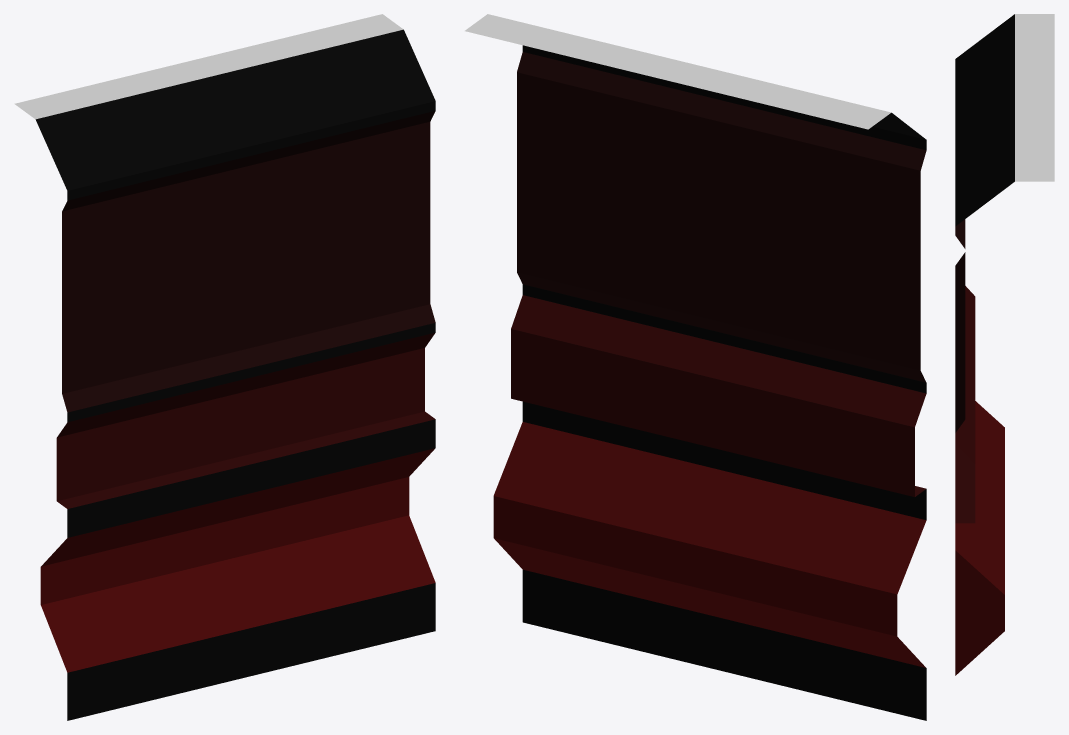
The model's file is Wall_2m.fbx.
3 renders of one model, left to right at view 1: azimuth 30°, elevation 25°; view 2: azimuth 150°, elevation 25°; view 3: azimuth 270°, elevation 25°, orthographic. The views are drawn at different scales.
Visible parts, largest first — view 1: Wall_2, Wall_2_Dark_Top; view 2: Wall_2, Wall_2_Dark_Top; view 3: Wall_2, Wall_2_Dark_Top.
Part boxes in pixels (<box>): Wall_2: <box>35,29,435,720</box>; Wall_2_Dark_Top: <box>14,14,403,119</box>; Wall_2: <box>493,45,926,720</box>; Wall_2_Dark_Top: <box>465,14,891,129</box>; Wall_2: <box>955,14,1014,675</box>; Wall_2_Dark_Top: <box>1015,14,1054,181</box>.
Size of the model in its own units: 200 by 300 by 50.
